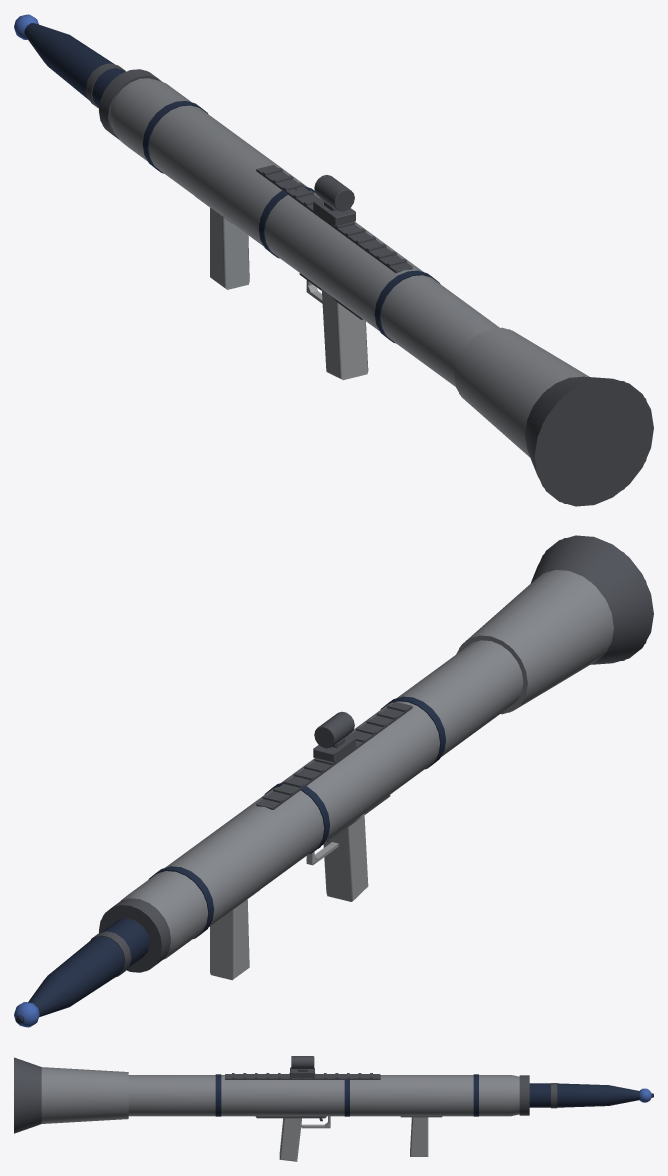
Rendered from la_antiair.glb.
3 renders of one model, top to bottom at view 1: azimuth 30°, elevation 25°; view 2: azimuth 150°, elevation 25°; view 3: azimuth 270°, elevation 25°, orthographic. The views are drawn at different scales.
Parts seen in each view (by area): view 1: L0, L1; view 2: L0, L1; view 3: L0, L1.
Boxes of the visible parts, <box> form: L0: <box>14,14,653,506</box>; L1: <box>18,15,653,504</box>; L0: <box>14,535,653,1027</box>; L1: <box>15,538,646,1026</box>; L0: <box>14,1056,653,1161</box>; L1: <box>14,1056,653,1133</box>.
Size of the model in its own units: 0.1665 by 0.2445 by 1.39.
